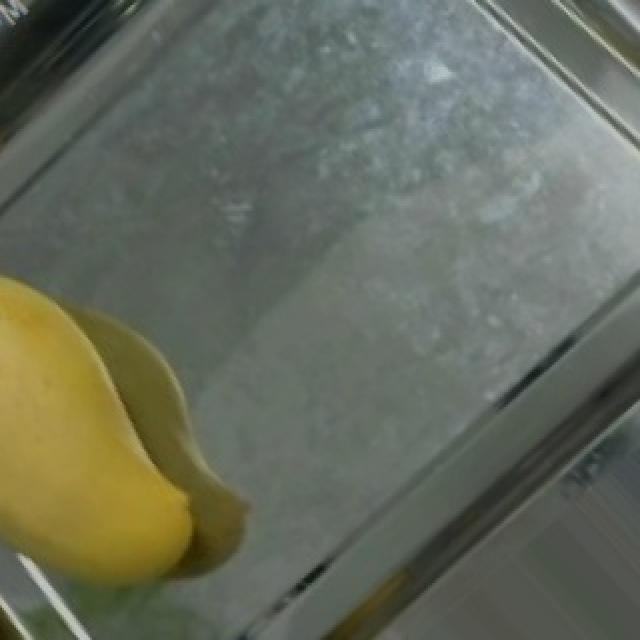fruit: (0, 233, 244, 618)
